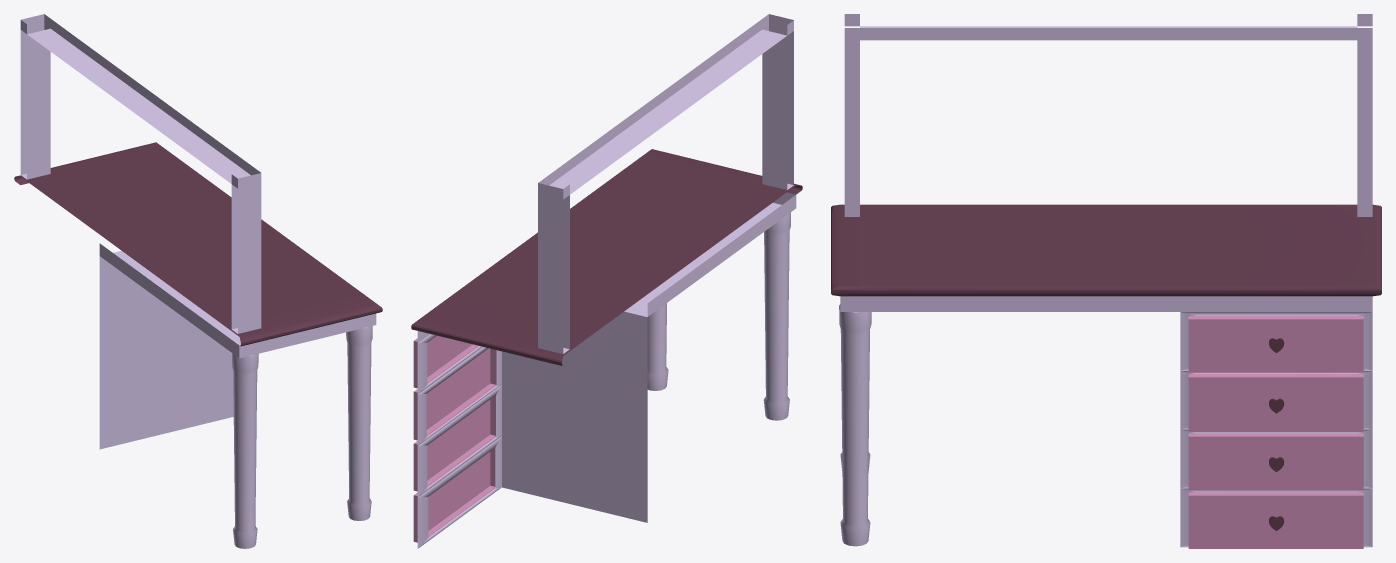
The model's file is SM_Desk_KP.fbx.
The picture shows the model from 3 angles, left to right: view 1: azimuth 30°, elevation 25°; view 2: azimuth 150°, elevation 25°; view 3: azimuth 270°, elevation 25°; orthographic projection. The views are drawn at different scales.
Visible parts, largest first — view 1: Desk; view 2: Desk; view 3: Desk.
Boxes of the visible parts, <box> form: Desk: <box>14,14,382,548</box>; Desk: <box>411,14,802,548</box>; Desk: <box>831,14,1381,548</box>.
Bounding box in the file's own units: 1.08 × 2.59 × 2.86.
